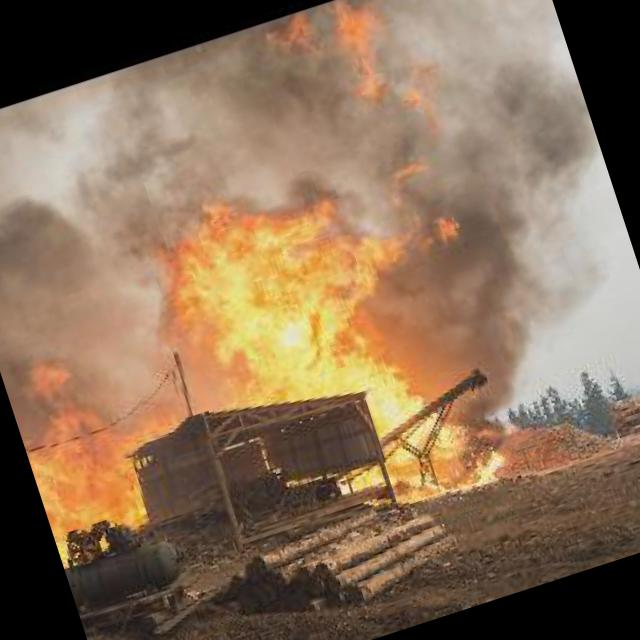fire: (135, 121, 550, 524), (0, 299, 218, 577), (255, 0, 466, 176), (392, 444, 507, 504)
smoke: (388, 0, 640, 368), (0, 54, 248, 344)
